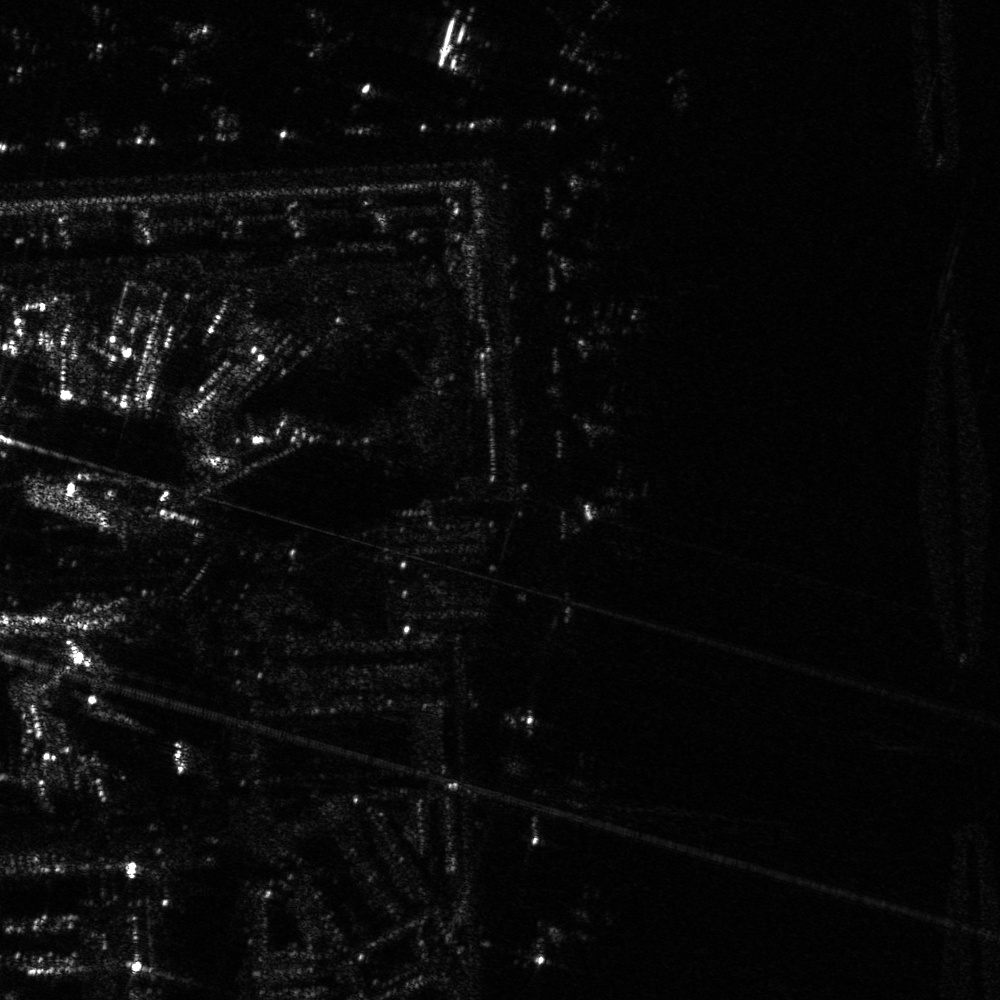A220: (536, 872, 644, 969), (573, 461, 654, 554), (577, 369, 654, 456), (54, 1, 149, 68), (573, 290, 651, 371)
Boeing737: (1, 26, 73, 90)
Boeing787: (407, 1, 492, 91), (274, 1, 368, 60)
other: (135, 13, 223, 104)
